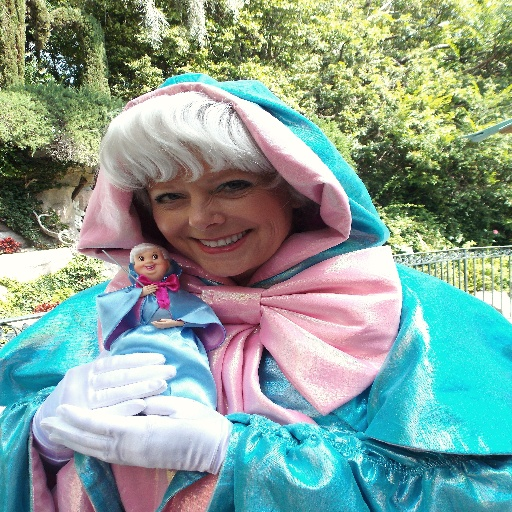hand: (38, 394, 233, 473), (45, 351, 194, 437), (149, 318, 179, 330), (142, 283, 159, 298)
